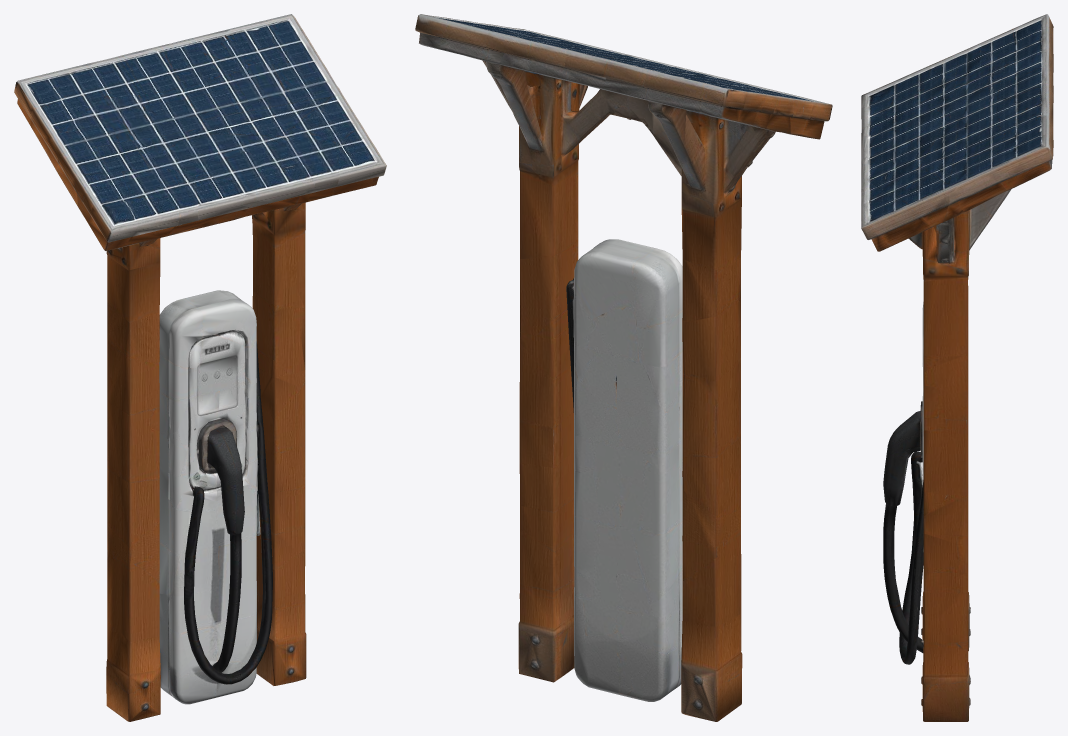
File: evpoint_lod1.glb
3 renders of one model, left to right at view 1: azimuth 30°, elevation 25°; view 2: azimuth 150°, elevation 25°; view 3: azimuth 270°, elevation 25°, orthographic. The views are drawn at different scales.
Parts seen in each view (by area): view 1: mesh_node; view 2: mesh_node; view 3: mesh_node.
Boxes of the visible parts, x1,y1,x2,y2 form: mesh_node: (14, 14, 386, 721); mesh_node: (415, 14, 832, 721); mesh_node: (861, 14, 1053, 721).
Bounding box in the file's own units: 0.9081 × 1.9 × 0.5529.
1 material, 1 textured.
